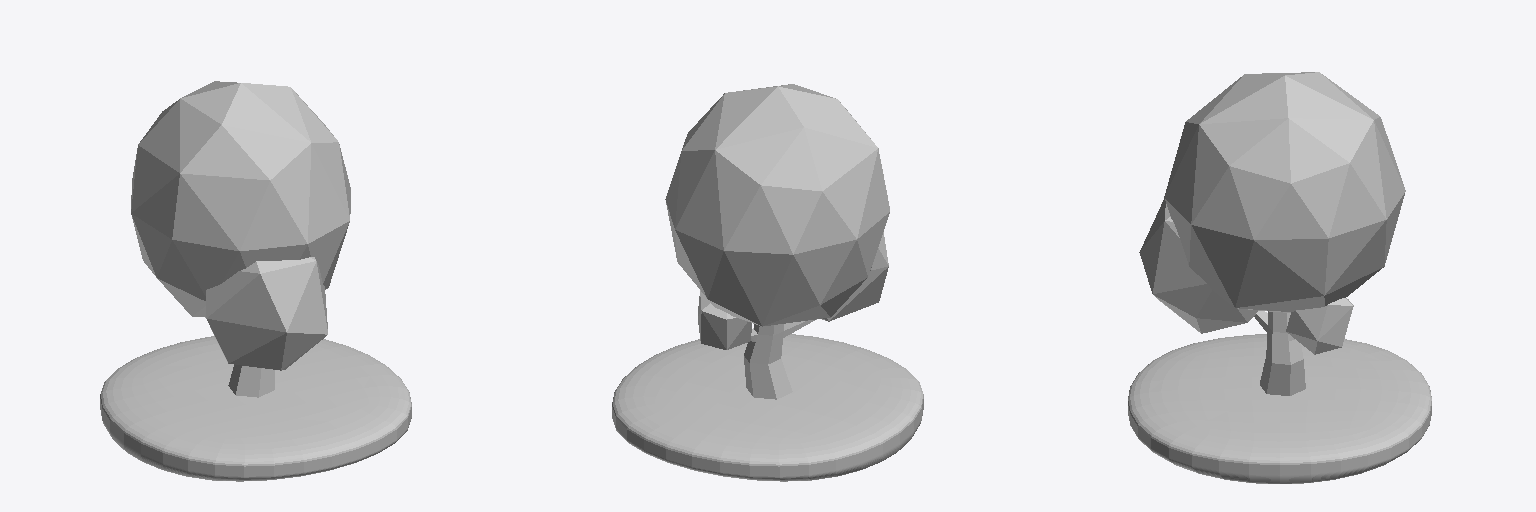
File: tree.obj
3 renders of one model, left to right at view 1: azimuth 30°, elevation 25°; view 2: azimuth 150°, elevation 25°; view 3: azimuth 270°, elevation 25°, orthographic.
Visible parts, largest first — view 1: Icosphere.001_Icosphere.010, Plane, Plane-2, Cylinder_Cylinder.005; view 2: Icosphere.001_Icosphere.010, Plane, Cylinder_Cylinder.005, Plane-2; view 3: Icosphere.001_Icosphere.010, Plane, Cylinder_Cylinder.005, Plane-2.
Part boxes in pixels (bbox=[...]): Icosphere.001_Icosphere.010: bbox=[131, 81, 350, 370]; Plane: bbox=[100, 336, 411, 475]; Plane-2: bbox=[100, 409, 411, 481]; Cylinder_Cylinder.005: bbox=[228, 365, 274, 397]; Icosphere.001_Icosphere.010: bbox=[665, 84, 889, 349]; Plane: bbox=[612, 334, 923, 475]; Cylinder_Cylinder.005: bbox=[744, 319, 816, 399]; Plane-2: bbox=[612, 409, 923, 481]; Icosphere.001_Icosphere.010: bbox=[1139, 72, 1405, 354]; Plane: bbox=[1128, 334, 1431, 474]; Cylinder_Cylinder.005: bbox=[1254, 311, 1305, 395]; Plane-2: bbox=[1128, 415, 1431, 483].
Size of the model in its own units: 11.68 by 14.71 by 11.65.